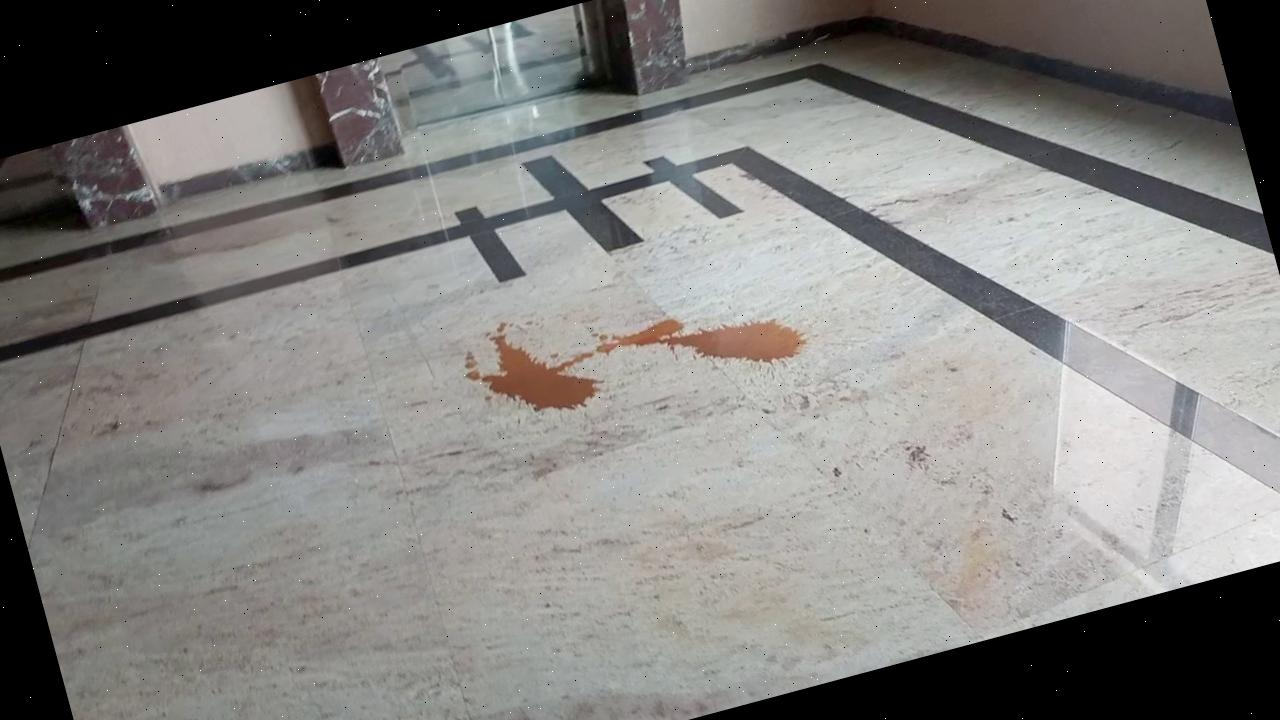dirty_floor: (444, 246, 814, 446)
